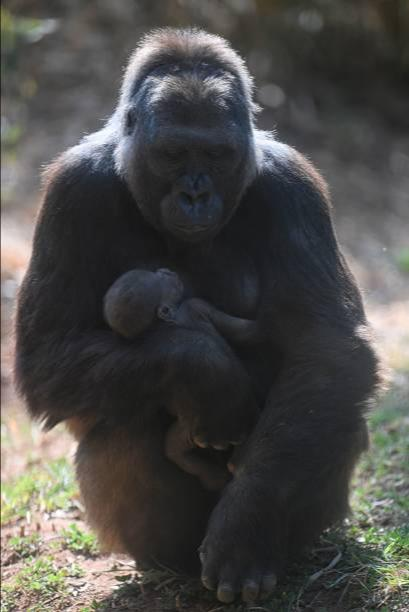gorille_Autres: (6, 18, 394, 612)
